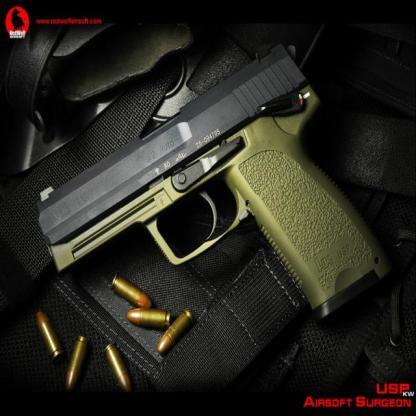weapon: (35, 44, 393, 325)
